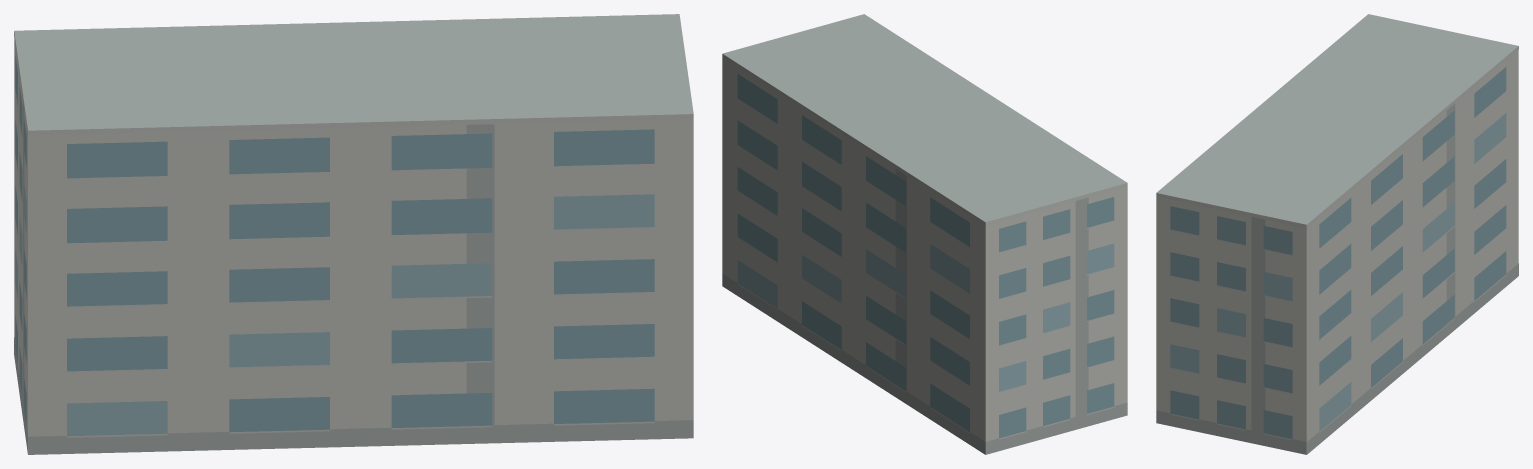
File: residential-b2a2d46c-4e4d-44ad-a8c5-464835244a99.glb
3 renders of one model, left to right at view 1: azimuth 30°, elevation 25°; view 2: azimuth 150°, elevation 25°; view 3: azimuth 270°, elevation 25°, orthographic. The views are drawn at different scales.
Visible parts, largest first — view 1: residential-b2a2d46c-4e4d-44ad-a8c5-464835244a99.tmp; view 2: residential-b2a2d46c-4e4d-44ad-a8c5-464835244a99.tmp; view 3: residential-b2a2d46c-4e4d-44ad-a8c5-464835244a99.tmp.
Boxes of the visible parts, box(x1,y1,x2,y2) form: residential-b2a2d46c-4e4d-44ad-a8c5-464835244a99.tmp: box(14, 14, 693, 454); residential-b2a2d46c-4e4d-44ad-a8c5-464835244a99.tmp: box(722, 14, 1127, 454); residential-b2a2d46c-4e4d-44ad-a8c5-464835244a99.tmp: box(1156, 14, 1518, 454).
Size of the model in its own units: 29.95 by 15.25 by 21.77.
